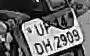0: (64, 30, 73, 45)
1: (53, 17, 61, 30)
2: (52, 33, 62, 50)
4: (60, 15, 68, 29)
9: (58, 33, 68, 47), (72, 28, 80, 42)
D: (34, 42, 44, 55)
H: (43, 36, 53, 53)
P: (43, 20, 52, 34)
U: (33, 23, 45, 36)
